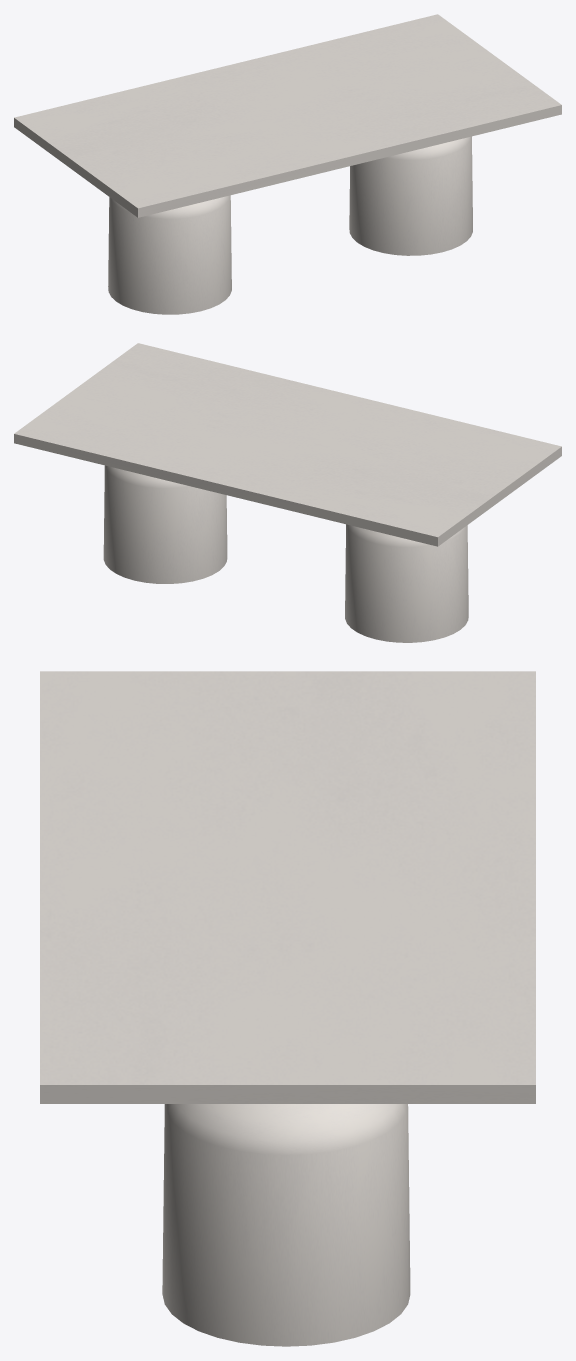
The model's file is pearlwhite_recta_standard_tornado.glb.
3 views of the same model, one above another, from view 1: azimuth 30°, elevation 25°; view 2: azimuth 150°, elevation 25°; view 3: azimuth 270°, elevation 25° (orthographic). The views are drawn at different scales.
Visible parts, largest first — view 1: standard_recta, tornado; view 2: standard_recta, tornado; view 3: standard_recta, tornado.
Part boxes in pixels (bbox=[...]): standard_recta: bbox=[14, 14, 561, 217]; tornado: bbox=[108, 136, 472, 314]; standard_recta: bbox=[14, 343, 561, 546]; tornado: bbox=[103, 465, 468, 642]; standard_recta: bbox=[40, 671, 535, 1103]; tornado: bbox=[162, 1104, 410, 1346].
Bounding box in the file's own units: 7.5 × 2.5 × 3.8.
Materials: 1 (1 with a texture image).
